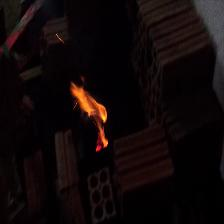fire: (67, 74, 110, 152)
